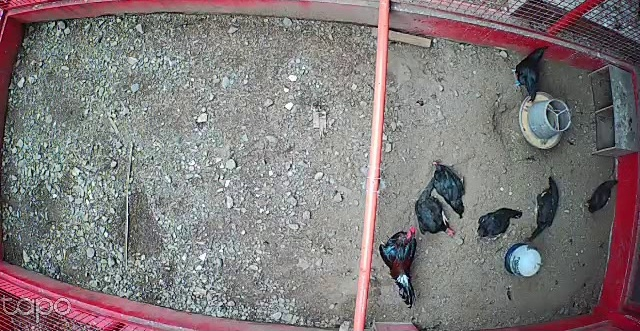Chicken: (415, 178, 455, 243), (427, 157, 469, 218), (510, 45, 551, 104), (528, 175, 563, 243), (473, 204, 521, 243), (581, 178, 620, 214)
Drinker: (505, 242, 544, 278)
Feeder: (516, 92, 573, 149)
Leg_Band_Blue: (515, 80, 521, 87)
Rooster: (378, 227, 419, 312)
